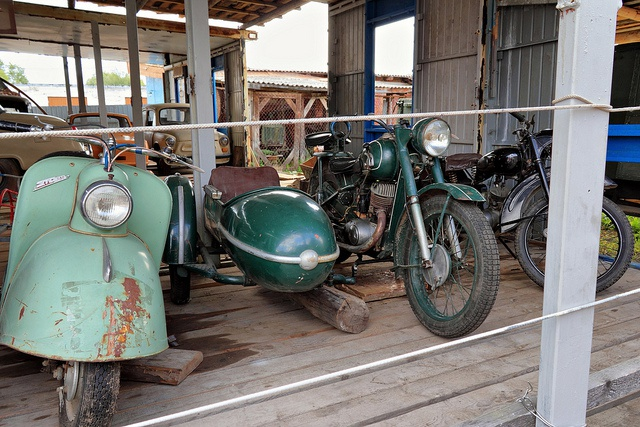non-vehicle: (0, 131, 185, 427), (299, 95, 500, 340), (451, 112, 634, 293)
